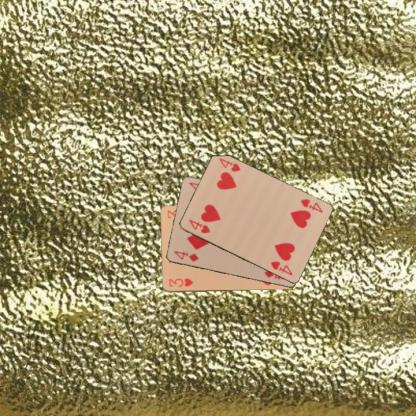3h: (167, 276, 194, 288)
4d: (171, 248, 200, 263)
4h: (186, 216, 212, 235), (298, 197, 324, 214)
